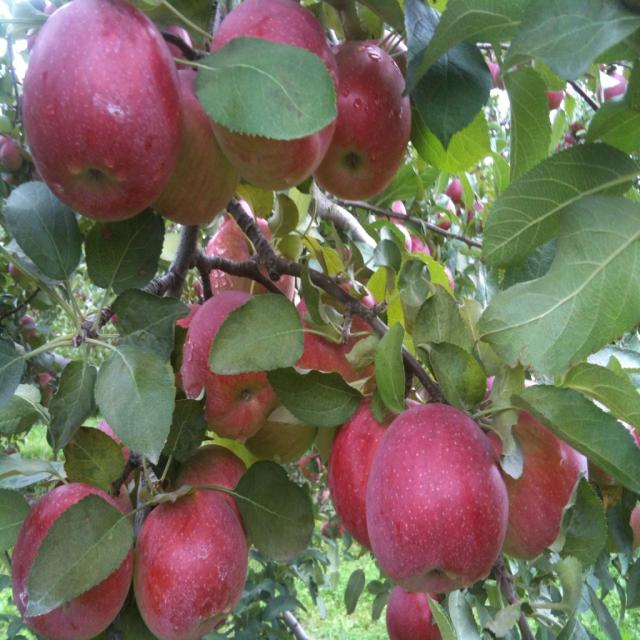Healty Apple: (0, 0, 639, 639), (18, 2, 180, 220), (364, 400, 508, 595)
